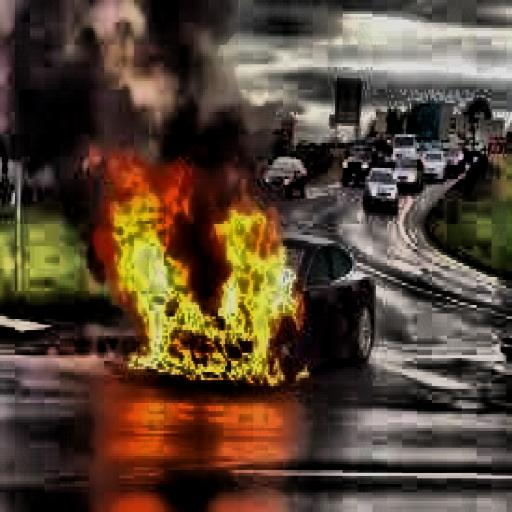fire: (87, 151, 313, 397)
